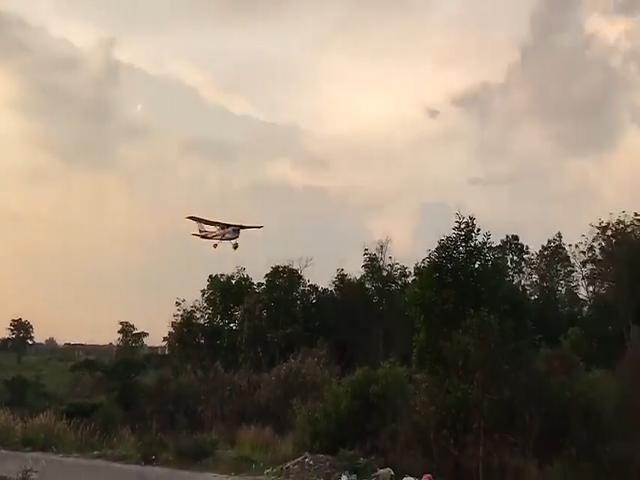plane: (186, 215, 264, 249)
